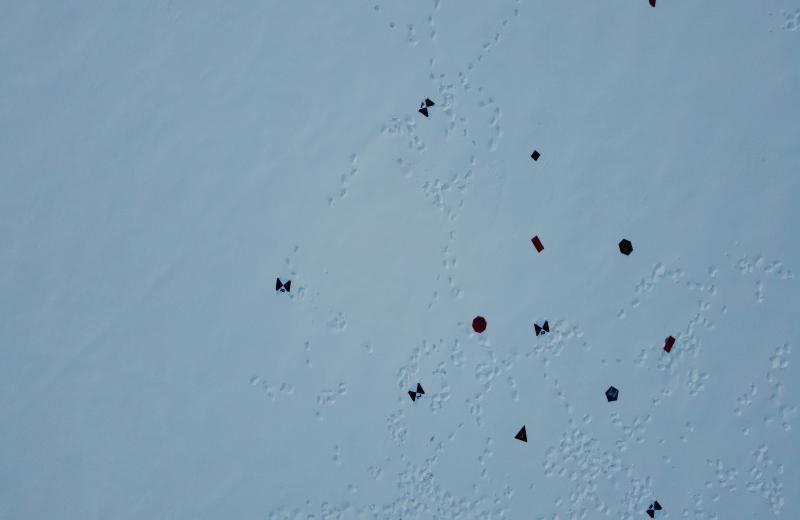Hexagon: (618, 238, 634, 256)
Octagon: (472, 315, 487, 333)
Pentagon: (605, 385, 620, 402)
Rectangle: (531, 235, 545, 254), (663, 334, 676, 354)
Semi Circle: (648, 0, 655, 7)
Square: (530, 149, 541, 162)
Triangle: (514, 424, 528, 443)
